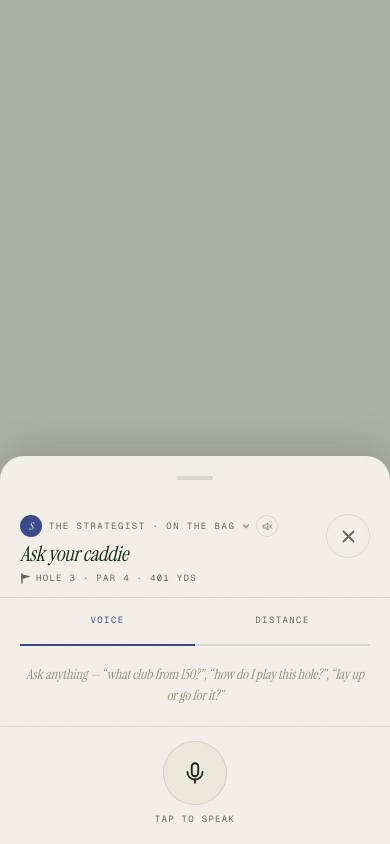
CaddieSheet — streaming ladder (specs/voice-streaming-replies-plan.md) › tier 1 -> tier 2: a pre-first-token session failure falls back to /caddie/voice/stream (still streaming)
Click the button named "Start recording": click(195, 772) x1=163 y1=740 x2=227 y2=804
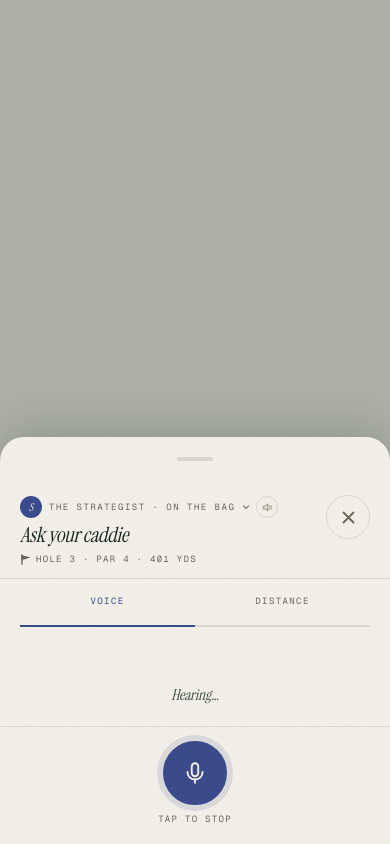
Click the button named "Stop recording": click(195, 772) x1=163 y1=740 x2=227 y2=804
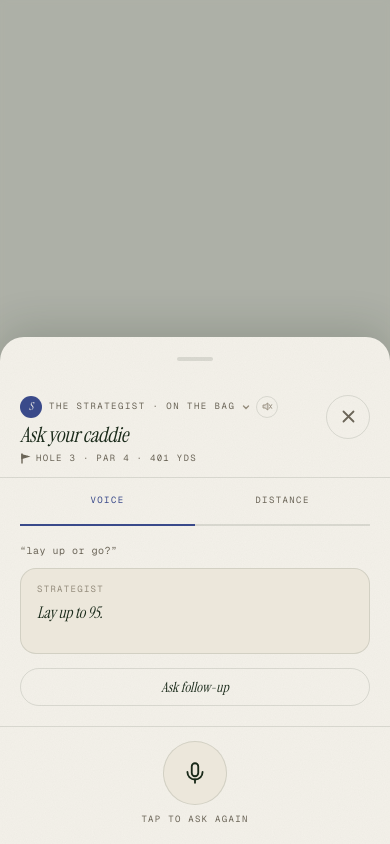
Now the text "Lay up to 95." is shown, box x1=37 y1=602 x2=102 y2=623
